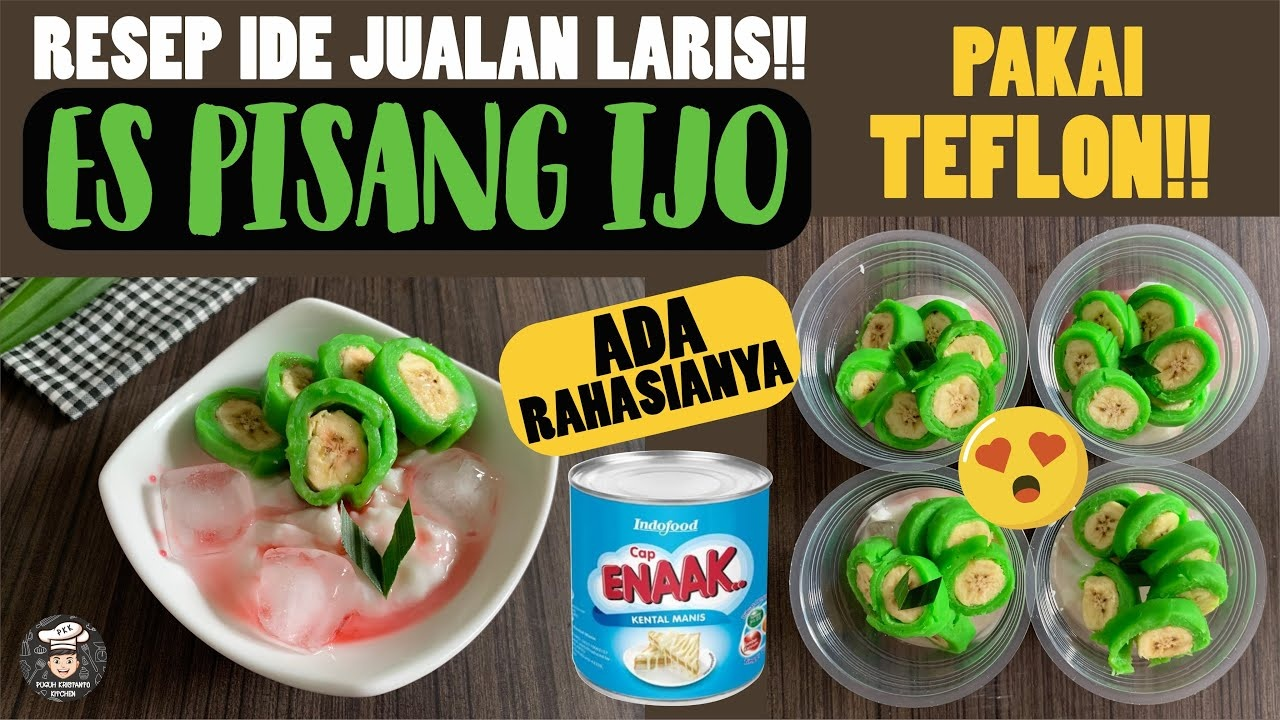pisang_ijo: (290, 379, 412, 521), (383, 323, 485, 457)
